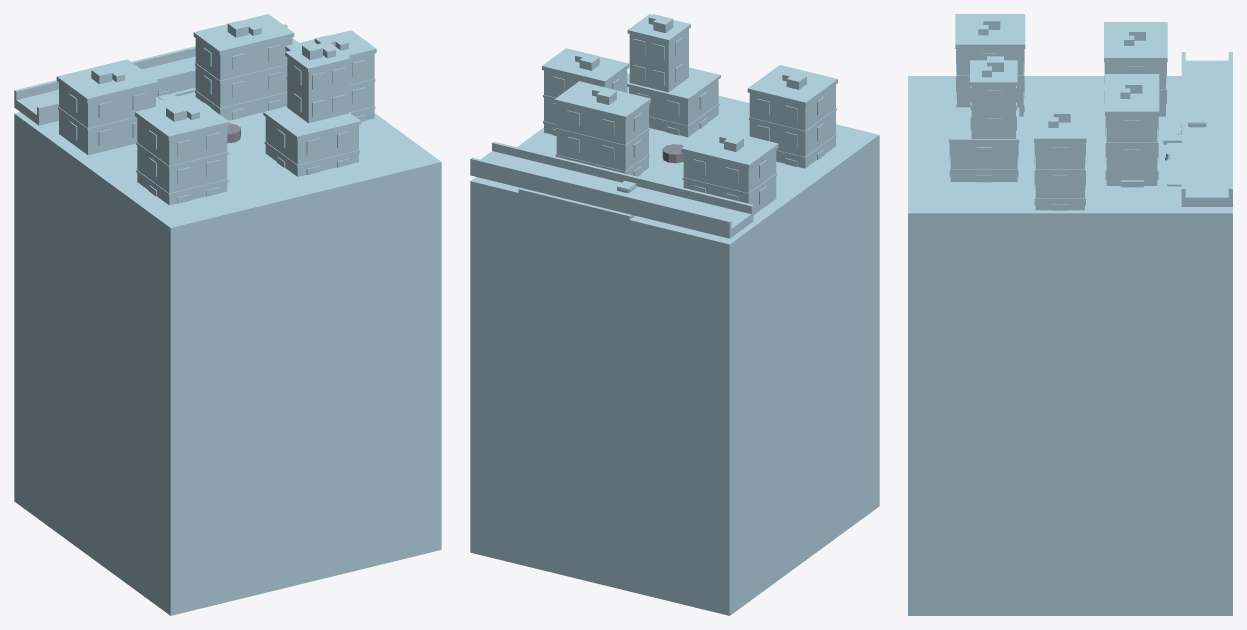
File: block_6_undergroundtanks_100.glb
The picture shows the model from 3 angles, left to right: view 1: azimuth 30°, elevation 25°; view 2: azimuth 150°, elevation 25°; view 3: azimuth 270°, elevation 25°; orthographic projection. The views are drawn at different scales.
Parts seen in each view (by area): view 1: Patch_UpperLeft_b01_UT, Res_UL_04_UT, Res_UL_02_UT, Res_UL_01_UT, Res_UL_00_UT, Bridge_UpperLeft_b01_UT, Res_UL_03_UT, Roads_UpperLeft_b01_UT, Green_UpperLeft_j4_b01_UT; view 2: Patch_UpperLeft_b01_UT, Bridge_UpperLeft_b01_UT, Res_UL_04_UT, Res_UL_02_UT, Res_UL_01_UT, Res_UL_00_UT, Res_UL_03_UT, Paver_UpperLeft_b01_UT, Green_UpperLeft_j4_b01_UT; view 3: Patch_UpperLeft_b01_UT, Res_UL_04_UT, Bridge_UpperLeft_b01_UT, Res_UL_02_UT, Res_UL_03_UT, Res_UL_01_UT, Res_UL_00_UT, Green_UpperLeft_j4_b01_UT.
Part boxes in pixels (box(x1,y1,x2,y2)): Patch_UpperLeft_b01_UT: box(14, 112, 441, 615); Res_UL_04_UT: box(263, 41, 361, 176); Res_UL_02_UT: box(193, 14, 294, 120); Res_UL_01_UT: box(135, 97, 229, 205); Res_UL_00_UT: box(56, 59, 158, 155); Bridge_UpperLeft_b01_UT: box(14, 24, 298, 125); Res_UL_03_UT: box(285, 30, 376, 121); Roads_UpperLeft_b01_UT: box(155, 94, 441, 286); Green_UpperLeft_j4_b01_UT: box(14, 92, 441, 287); Patch_UpperLeft_b01_UT: box(470, 73, 879, 615); Bridge_UpperLeft_b01_UT: box(470, 141, 753, 238); Res_UL_04_UT: box(627, 14, 720, 137); Res_UL_02_UT: box(554, 81, 650, 176); Res_UL_01_UT: box(747, 65, 837, 168); Res_UL_00_UT: box(681, 127, 778, 215); Res_UL_03_UT: box(542, 48, 629, 135); Paver_UpperLeft_b01_UT: box(470, 188, 753, 272); Green_UpperLeft_j4_b01_UT: box(470, 191, 879, 272); Patch_UpperLeft_b01_UT: box(908, 76, 1232, 615); Res_UL_04_UT: box(949, 56, 1019, 182); Bridge_UpperLeft_b01_UT: box(1181, 52, 1232, 206); Res_UL_02_UT: box(1105, 74, 1159, 187); Res_UL_03_UT: box(1034, 105, 1086, 210); Res_UL_01_UT: box(955, 14, 1025, 116); Res_UL_00_UT: box(1104, 22, 1167, 116); Green_UpperLeft_j4_b01_UT: box(908, 143, 1232, 275).
Size of the model in its own units: 9.5 by 16.54 by 9.5.
